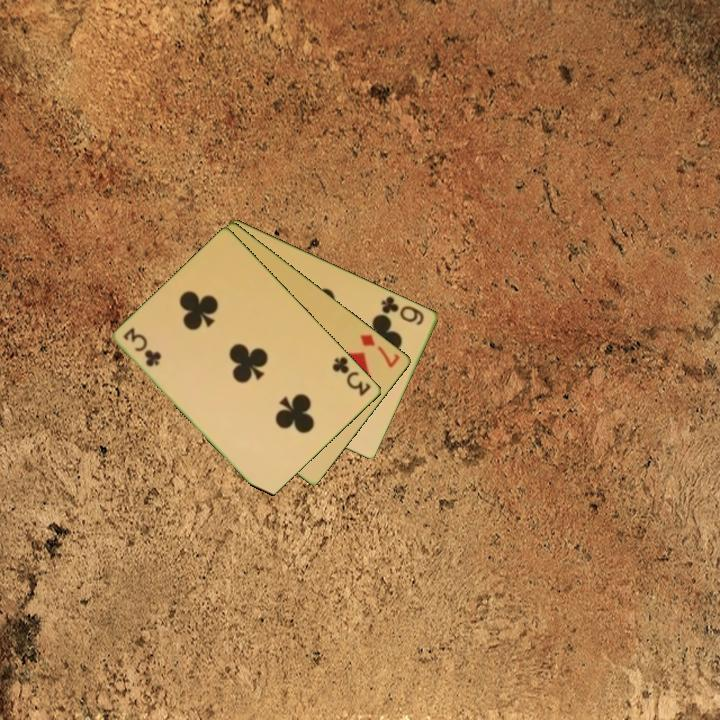3c: (329, 353, 374, 399), (120, 324, 164, 370)
6c: (378, 292, 427, 328)
7d: (357, 330, 403, 371)
